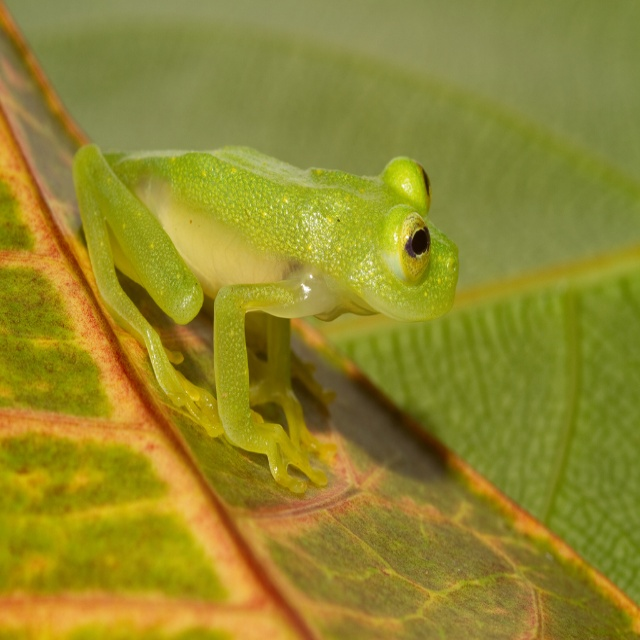Frog: (70, 143, 460, 496)
